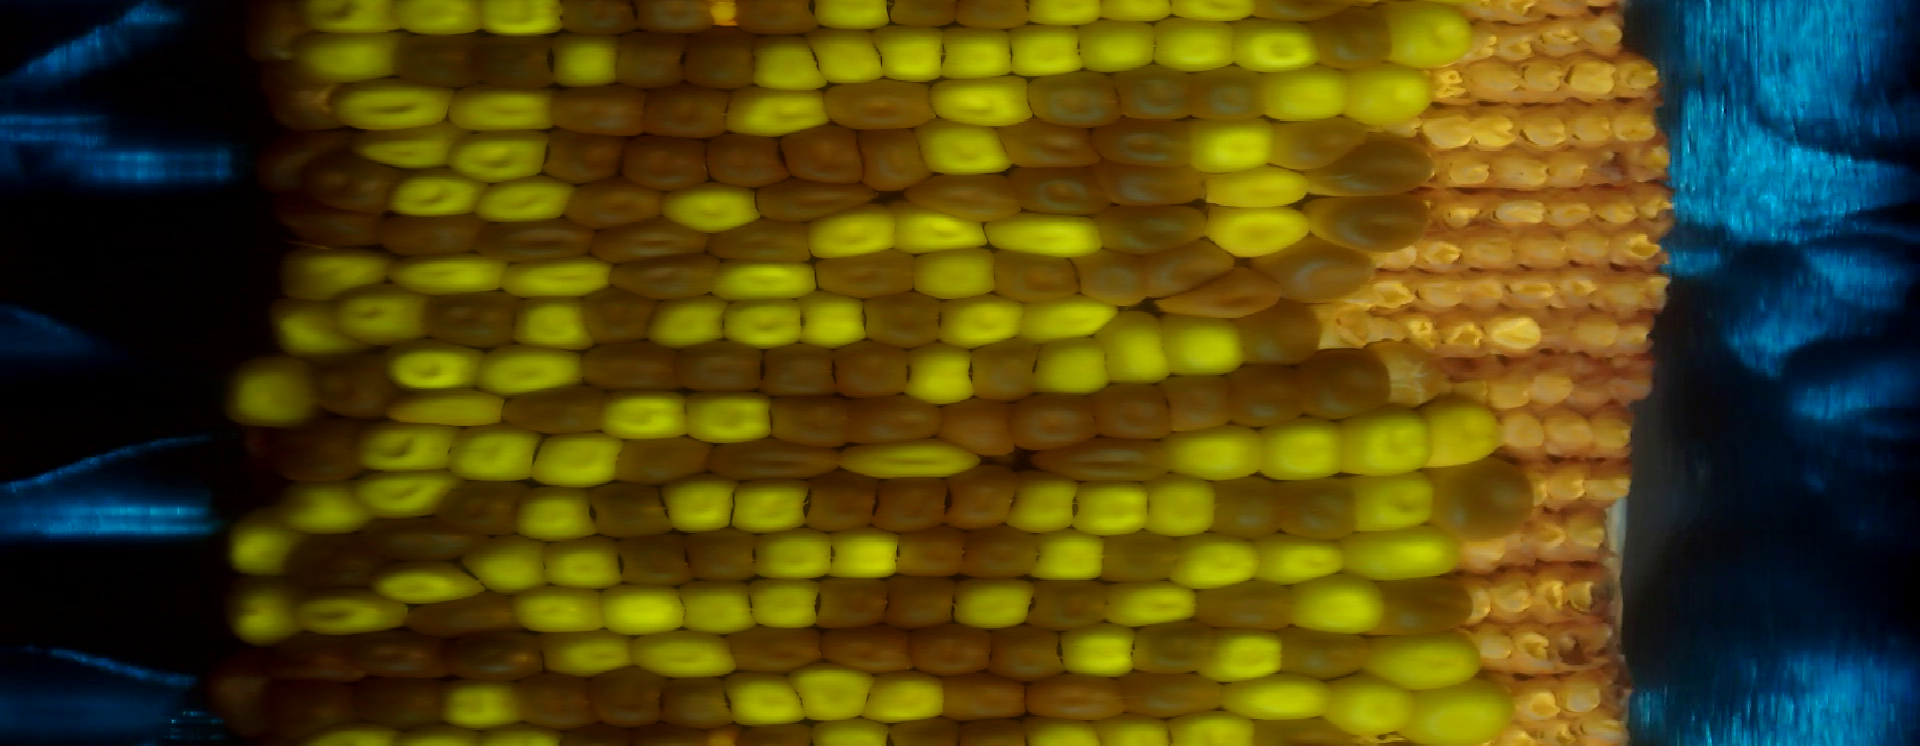fluorescent: (1331, 402, 1433, 480), (1407, 674, 1515, 746), (1315, 674, 1419, 745), (1340, 523, 1457, 582), (447, 78, 561, 137), (1371, 632, 1489, 688), (446, 416, 541, 483), (331, 285, 435, 345), (384, 386, 504, 437), (980, 209, 1108, 256), (1254, 416, 1346, 481), (444, 127, 546, 185), (1425, 397, 1505, 470), (336, 80, 452, 130), (1168, 307, 1247, 381), (841, 440, 983, 480), (1341, 61, 1430, 125), (1142, 470, 1221, 543), (1292, 575, 1382, 637), (1202, 201, 1309, 254), (1229, 17, 1326, 75), (1382, 4, 1468, 69), (791, 657, 873, 724), (530, 430, 626, 488), (680, 570, 758, 639), (282, 246, 393, 295), (888, 196, 992, 247), (540, 628, 644, 680), (433, 674, 524, 733), (928, 290, 1022, 345), (514, 587, 612, 639), (1166, 428, 1261, 481), (228, 365, 310, 428), (1151, 16, 1238, 75), (391, 250, 503, 295), (661, 180, 760, 232), (1104, 311, 1171, 388), (492, 345, 591, 397), (291, 583, 400, 630), (951, 571, 1031, 635), (1352, 469, 1433, 532), (473, 171, 573, 222), (268, 481, 366, 533), (633, 628, 736, 677), (1073, 477, 1151, 540), (1076, 13, 1156, 76), (471, 538, 556, 597), (218, 581, 300, 641), (358, 423, 457, 472), (721, 483, 818, 533), (819, 523, 900, 583), (1204, 624, 1286, 682), (726, 673, 809, 730), (538, 538, 624, 593), (1000, 467, 1071, 534), (751, 524, 835, 581), (605, 388, 694, 441), (681, 391, 770, 443), (1033, 334, 1112, 394), (660, 472, 731, 538), (607, 581, 694, 635), (730, 92, 833, 137), (862, 669, 947, 724), (714, 301, 811, 349), (351, 122, 451, 169), (500, 256, 613, 296), (1108, 577, 1198, 628), (509, 299, 593, 354), (1189, 118, 1276, 170), (358, 469, 456, 516), (1231, 674, 1324, 723), (718, 257, 818, 303), (1007, 20, 1084, 78), (924, 124, 1010, 176), (800, 206, 894, 254), (384, 169, 479, 217), (304, 33, 396, 82), (936, 80, 1033, 125), (276, 303, 350, 361), (918, 247, 998, 303), (1052, 625, 1135, 677), (1250, 532, 1340, 581), (517, 488, 598, 541), (542, 32, 620, 88), (387, 341, 475, 390), (812, 28, 887, 86), (744, 37, 820, 93), (1176, 529, 1251, 586), (647, 296, 733, 345), (1202, 167, 1305, 207), (942, 23, 1015, 80), (751, 577, 823, 633), (388, 562, 489, 603), (800, 292, 869, 349), (910, 344, 972, 404), (1270, 69, 1344, 118), (883, 24, 944, 83), (1024, 295, 1109, 337), (1041, 529, 1107, 582), (231, 518, 294, 571), (394, 2, 482, 37), (482, 1, 560, 40), (1178, 712, 1261, 746), (313, 1, 393, 36)
nonfluorescent: (1433, 464, 1540, 550), (1305, 191, 1431, 255), (1254, 239, 1368, 301), (1300, 343, 1389, 420), (1319, 145, 1438, 201), (987, 244, 1089, 306), (1025, 441, 1166, 485), (419, 288, 518, 350), (823, 75, 940, 127), (362, 513, 489, 562), (677, 338, 775, 401), (904, 169, 1019, 222), (272, 412, 360, 480), (1135, 239, 1247, 293), (1026, 67, 1124, 129), (703, 217, 824, 266), (1381, 576, 1478, 637), (707, 439, 842, 481), (771, 125, 864, 187), (1089, 381, 1182, 443), (204, 650, 269, 740), (484, 218, 596, 269), (1100, 119, 1200, 176), (355, 669, 451, 729), (613, 137, 715, 194), (858, 124, 936, 197), (841, 388, 944, 443), (704, 124, 792, 187), (1123, 664, 1229, 717), (1240, 299, 1325, 365), (607, 250, 713, 303), (438, 633, 546, 685), (263, 630, 366, 682), (938, 398, 1022, 462), (1108, 60, 1198, 120), (1025, 670, 1131, 720), (749, 176, 882, 217), (307, 356, 394, 418), (573, 343, 684, 391), (1284, 470, 1357, 544), (1104, 201, 1218, 247), (261, 682, 361, 735), (1200, 475, 1282, 539), (1183, 583, 1289, 632), (645, 83, 729, 146), (588, 485, 680, 541), (514, 669, 599, 730), (1103, 160, 1209, 209), (1014, 167, 1108, 220), (1009, 392, 1103, 446), (869, 472, 950, 534), (507, 385, 602, 437), (807, 470, 884, 535), (1267, 113, 1354, 170), (1229, 367, 1309, 430), (609, 533, 691, 593), (400, 29, 478, 93), (577, 169, 660, 228), (347, 637, 454, 682), (589, 665, 661, 733), (942, 465, 1015, 532), (984, 617, 1065, 677), (1005, 124, 1109, 170), (724, 628, 830, 674), (828, 341, 910, 399), (555, 87, 644, 141), (817, 249, 915, 298), (1277, 622, 1368, 675), (660, 668, 733, 733), (376, 211, 484, 255), (1155, 374, 1236, 432), (763, 341, 840, 402), (1379, 339, 1447, 408), (1183, 66, 1266, 122), (476, 29, 556, 88), (442, 477, 523, 534), (589, 218, 711, 256), (962, 526, 1044, 582), (287, 534, 376, 586), (1155, 271, 1280, 307), (1311, 11, 1389, 69), (940, 671, 1029, 722), (410, 592, 513, 635), (612, 437, 711, 481), (544, 127, 620, 185), (612, 33, 697, 85), (282, 194, 372, 241), (1130, 620, 1212, 673), (678, 528, 760, 581), (266, 75, 340, 132), (770, 397, 851, 450), (250, 129, 328, 183), (584, 282, 651, 344), (1075, 251, 1144, 312), (867, 293, 940, 349), (820, 628, 905, 677), (884, 572, 958, 627), (686, 29, 754, 88), (1092, 533, 1172, 583), (817, 575, 888, 630), (246, 1, 302, 70), (315, 156, 386, 209), (971, 337, 1035, 397), (913, 625, 986, 677), (1033, 575, 1108, 625), (891, 527, 961, 578), (562, 2, 639, 38), (640, 2, 709, 33)
